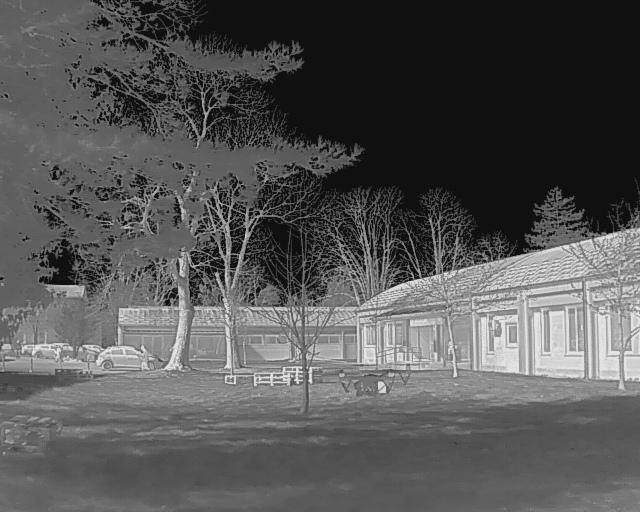drone: (315, 353, 432, 409)
